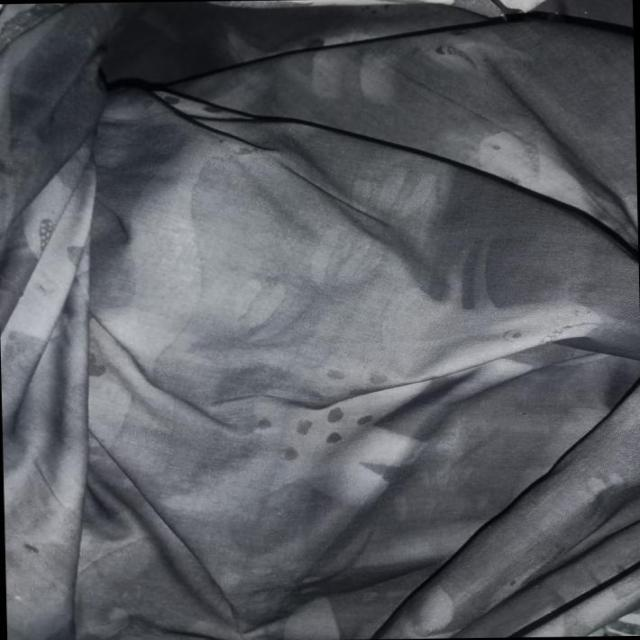baekra: (5, 0, 556, 640)
